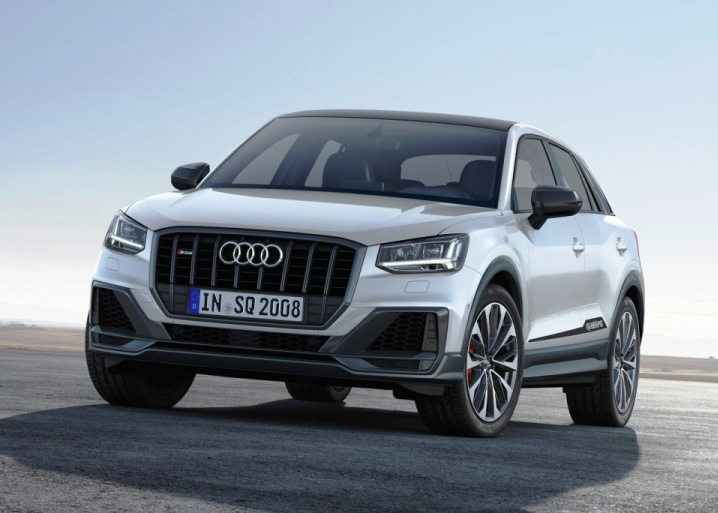audi: (210, 237, 290, 268)
